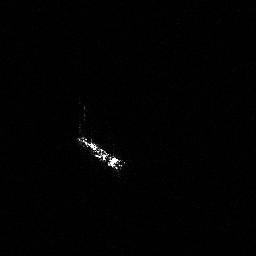ship: (73, 132, 127, 174)
